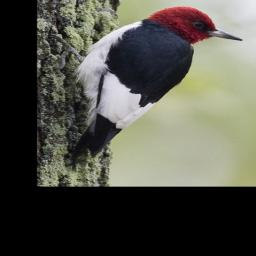Woodpecker: (55, 4, 253, 168)
